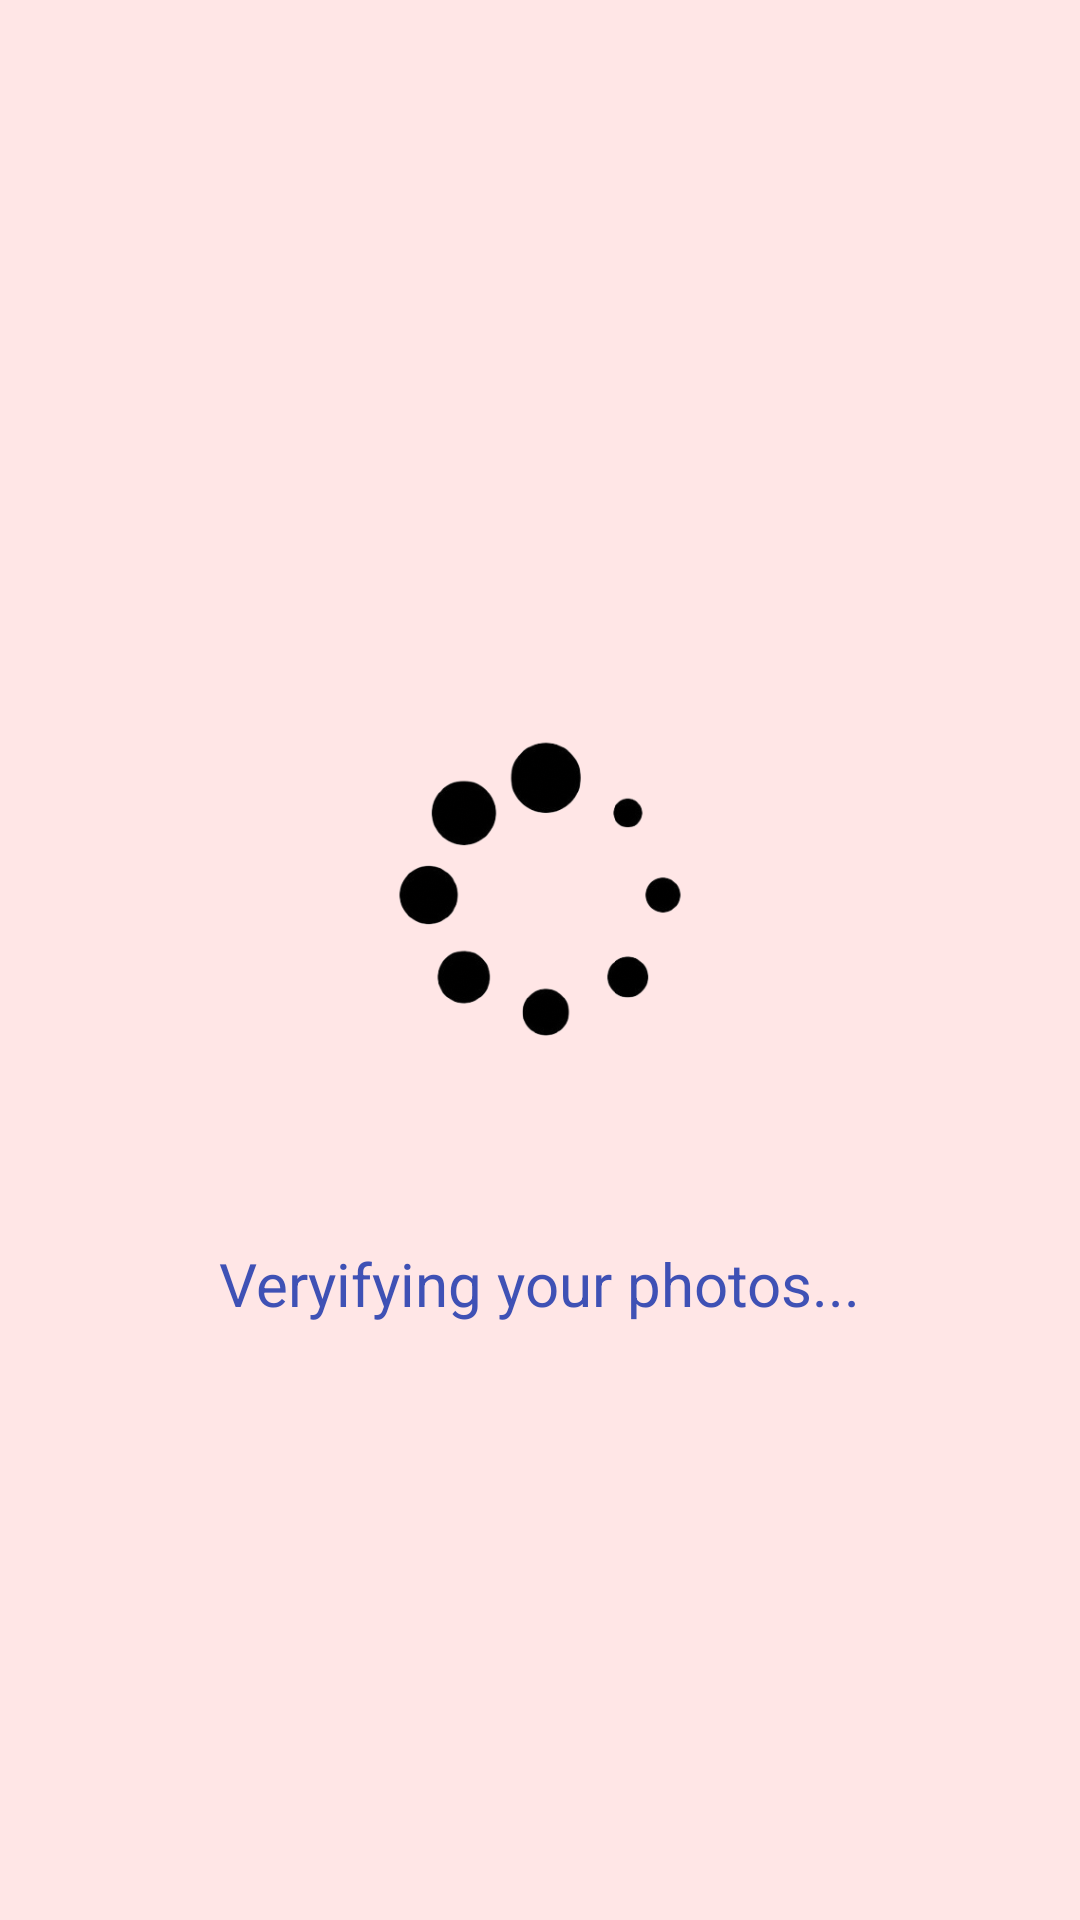

Point at icon controls on the screen. Image size 1080px×1920px, points as [x,y].
Loading Animation: [540,889]
